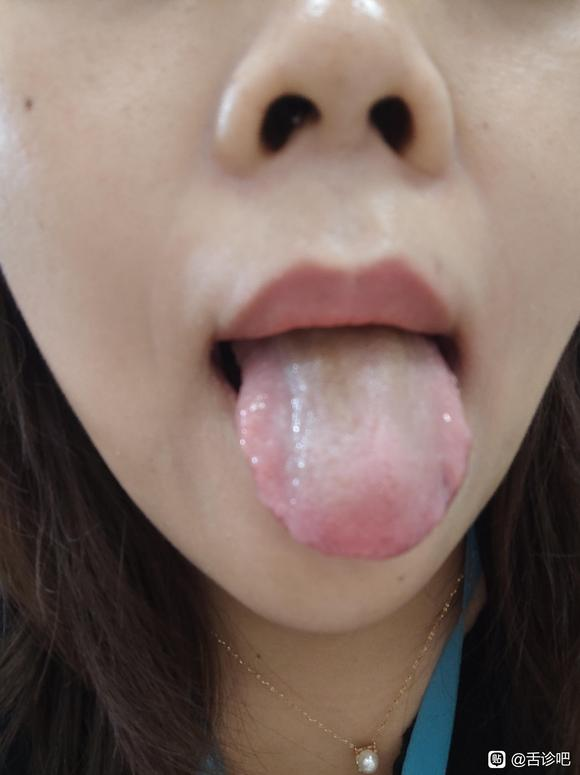chihenshe: (240, 447, 294, 538)
huangtaishe: (236, 327, 472, 560)
